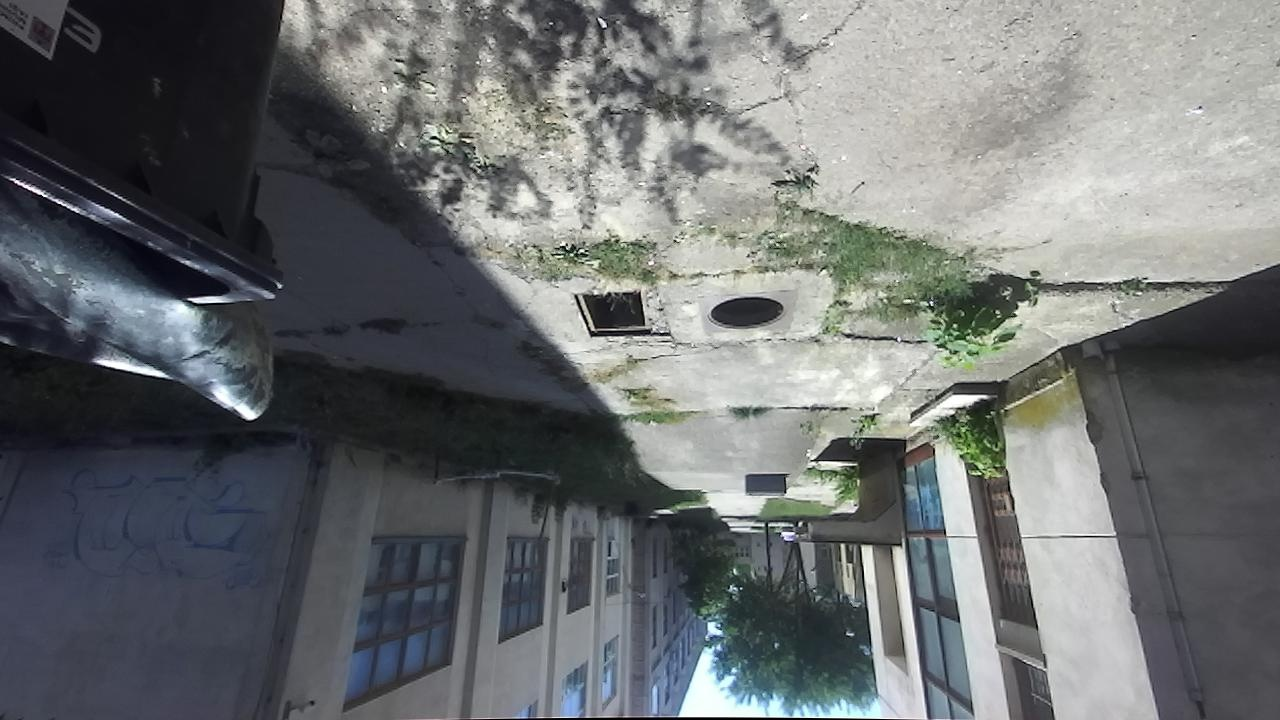drain: (568, 287, 654, 340), (701, 292, 790, 335)
